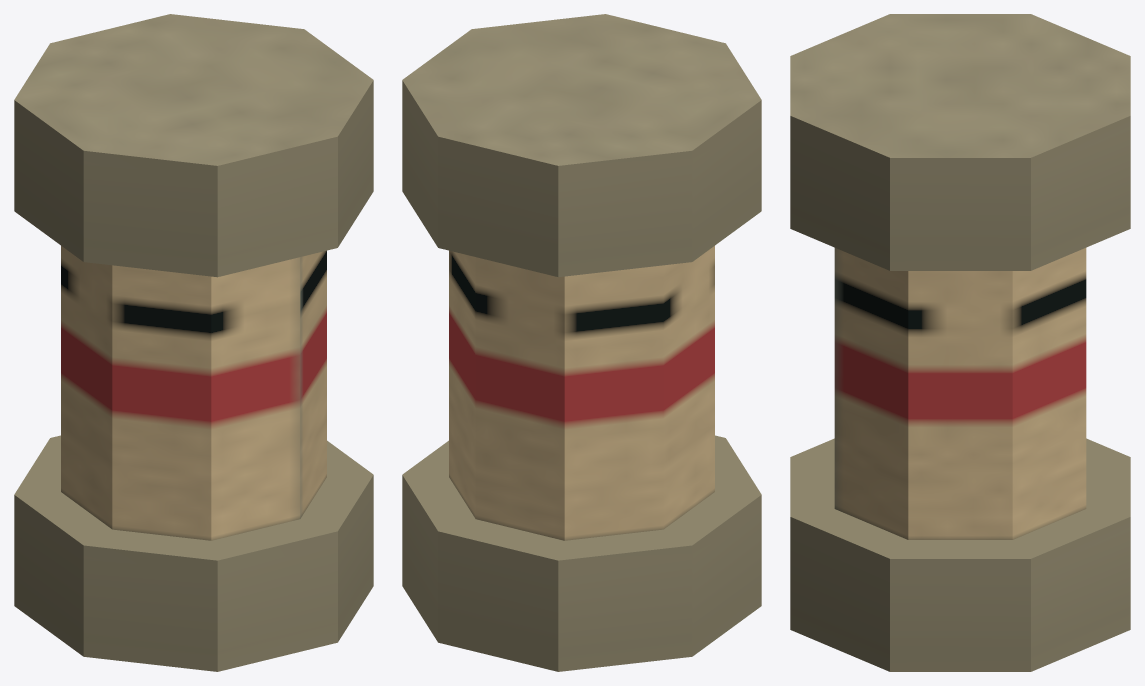
Rendered from SM_LabPart_Fuse_6x6x10.fbx.
3 views of the same model, side by side, from view 1: azimuth 30°, elevation 25°; view 2: azimuth 150°, elevation 25°; view 3: azimuth 270°, elevation 25° (orthographic).
Visible parts, largest first — view 1: SM_LabPart_Fuse_6x6x10.001; view 2: SM_LabPart_Fuse_6x6x10.001; view 3: SM_LabPart_Fuse_6x6x10.001.
Boxes of the visible parts, bbox=[...] form: SM_LabPart_Fuse_6x6x10.001: bbox=[14, 14, 373, 671]; SM_LabPart_Fuse_6x6x10.001: bbox=[402, 14, 761, 671]; SM_LabPart_Fuse_6x6x10.001: bbox=[790, 14, 1130, 671].
Bounding box in the file's own units: 0.06 × 0.1 × 0.06.
